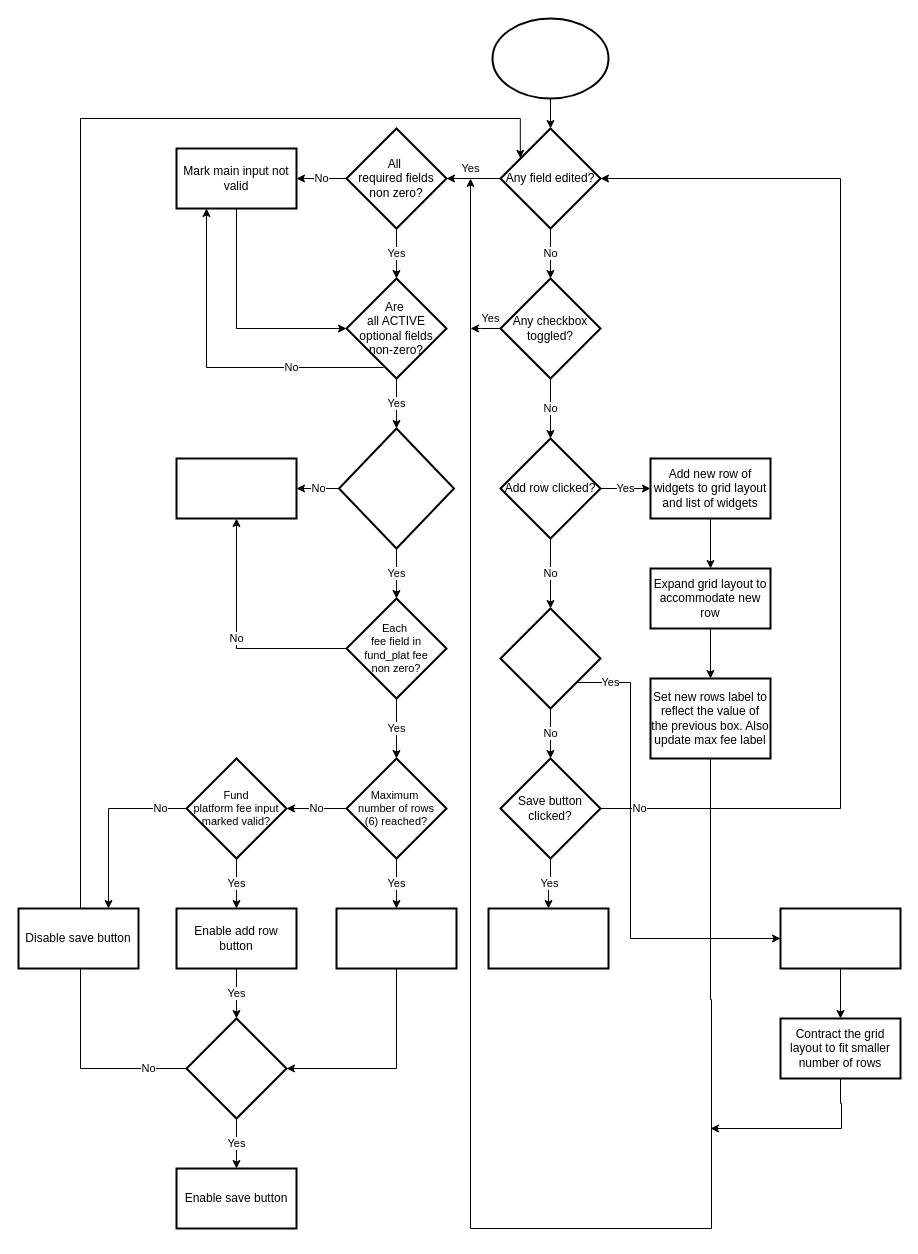
Some shapes in this 918 by 1254 pixel diagram are drawn without their labels. Each missing label, with the centre of its shape:
Disale add row button: the point at 396,938
Each row of fund_plat_fee bigger than the previous?: the point at 396,488
Is main input marked valid?: the point at 236,1068
Mark fund platform fee input not valid: the point at 236,488
Remove each widget in the last row from the grid layout: the point at 840,938
Remove row clicked?: the point at 550,658
Retrieve details of platform from DB if applicable: the point at 550,58
Save updated platform details to list: the point at 548,938
